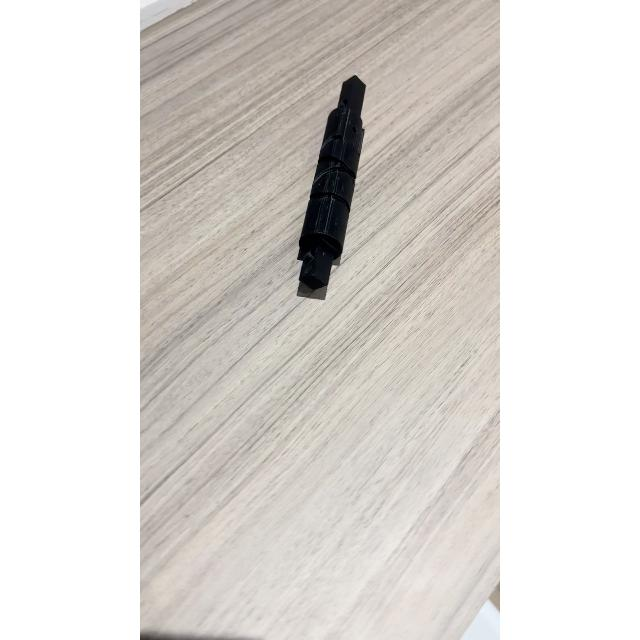Pieza_1: (288, 66, 372, 308)
